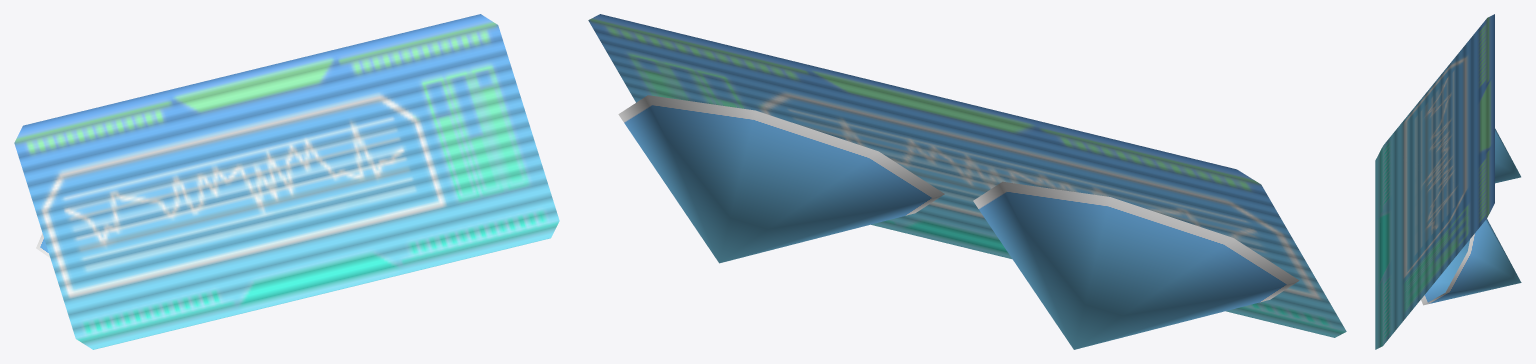
3 renders of one model, left to right at view 1: azimuth 30°, elevation 25°; view 2: azimuth 150°, elevation 25°; view 3: azimuth 270°, elevation 25°, orthographic. The views are drawn at different scales.
Parts seen in each view (by area): view 1: Сapsule_012; view 2: Сapsule_012; view 3: Сapsule_012.
Boxes of the visible parts, x1,y1,x2,y2 form: Сapsule_012: (14, 14, 559, 349); Сapsule_012: (588, 14, 1346, 349); Сapsule_012: (1375, 14, 1521, 349).
Size of the model in its own units: 89.28 by 27.19 by 30.08.
